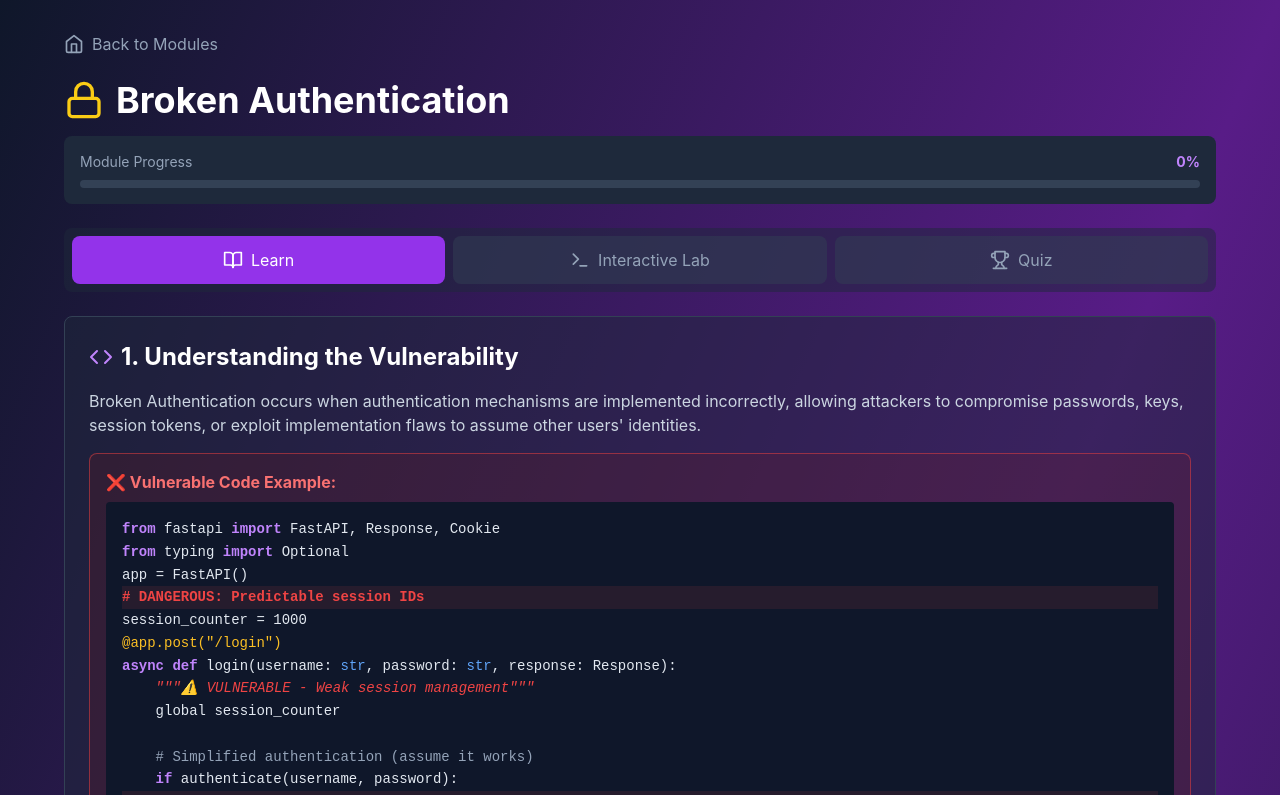
Test: BrokenAuthModule session token lab › accepts a long high-entropy token as secure
Click the button "Interactive Lab" at [640, 260], box x1=453 y1=236 x2=827 y2=284
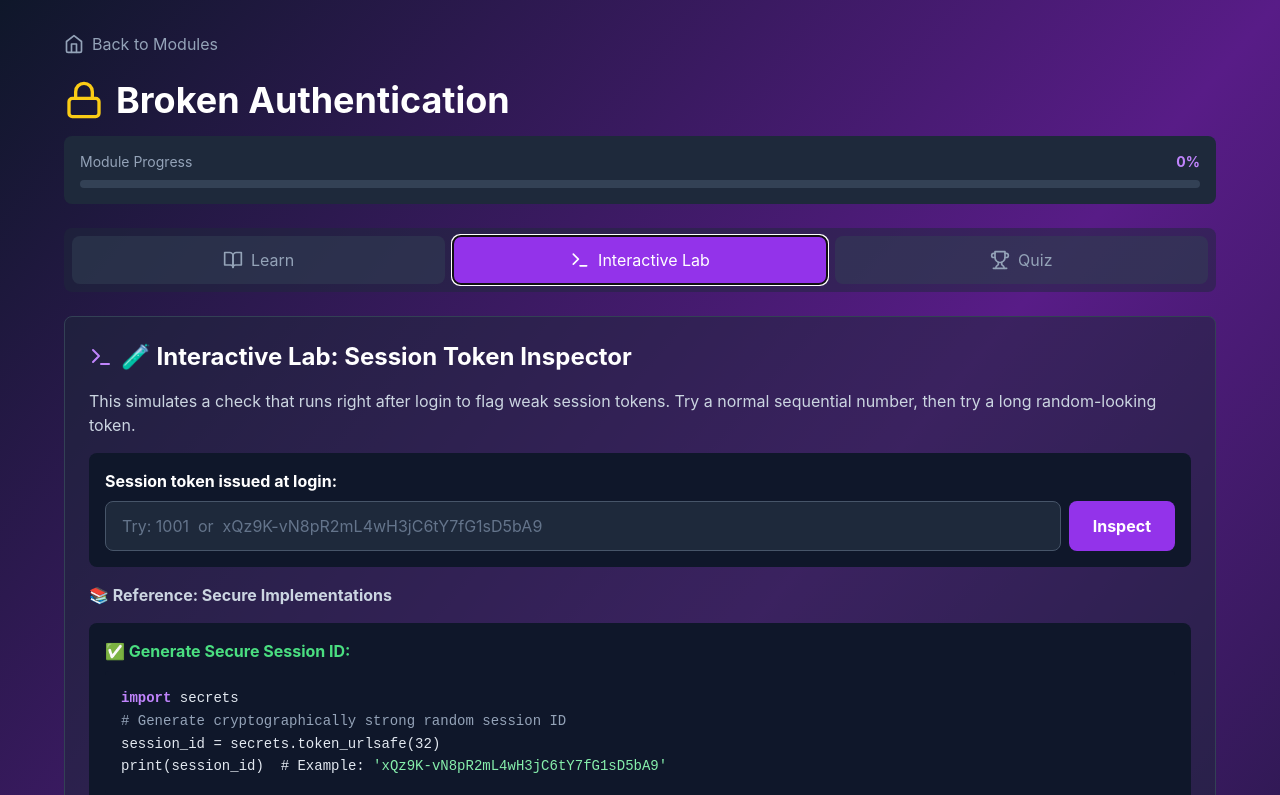
Type "xQz9K-vN8pR2mL4wH3jC6tY7fG1sD5bA9" into the field with placeholder "Try: 1001 or xQz9K-vN8pR2mL4wH3jC6tY7fG1sD5bA9" at [583, 526], box x1=105 y1=501 x2=1061 y2=551
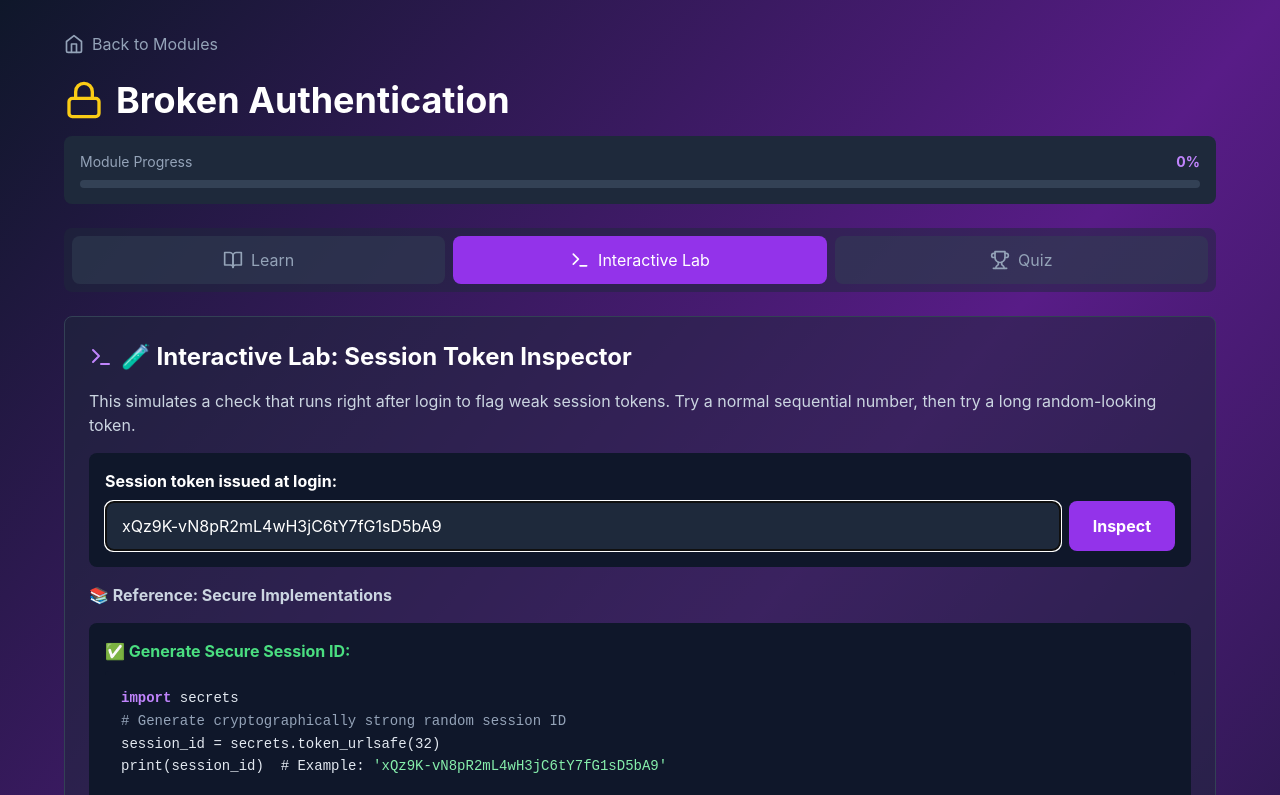
Click the button "Inspect" at [1122, 526], box x1=1069 y1=501 x2=1175 y2=551
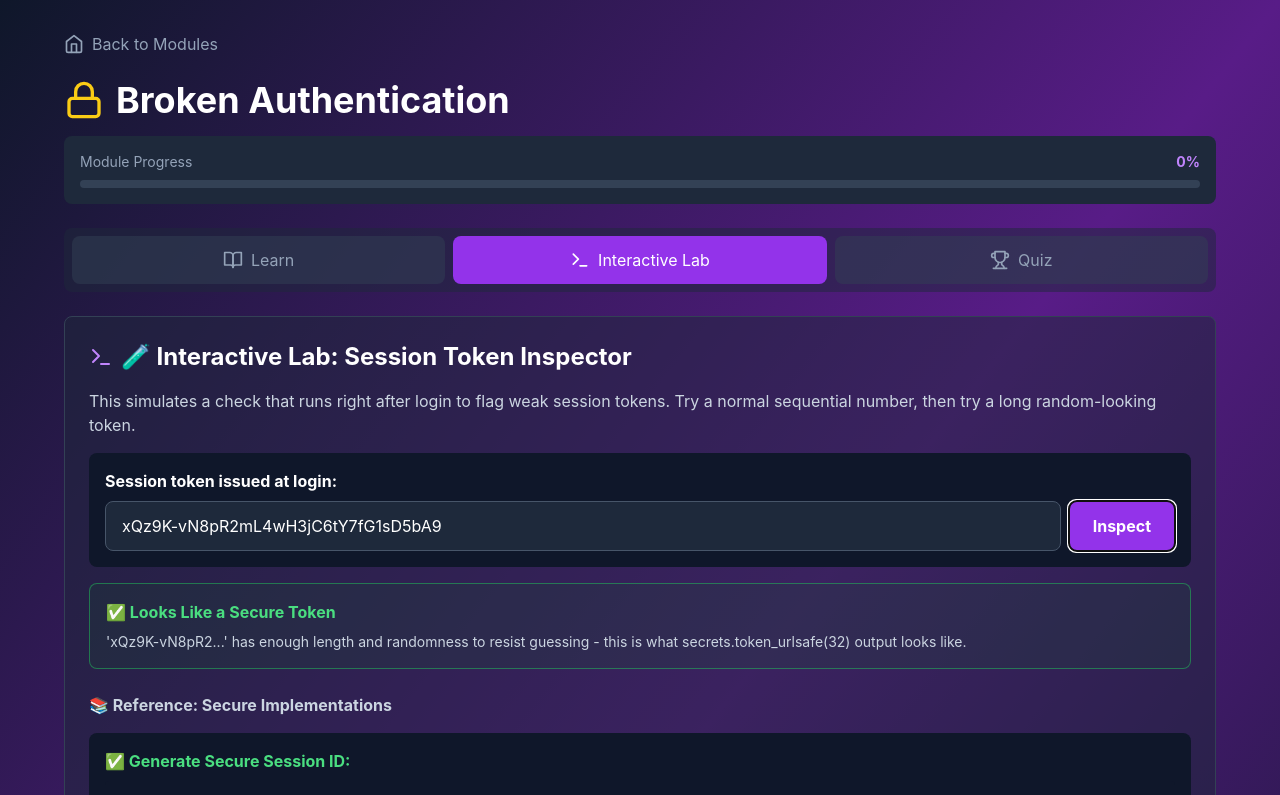
Now the heading "✅ Looks Like a Secure Token" is shown, box x1=106 y1=602 x2=336 y2=622
